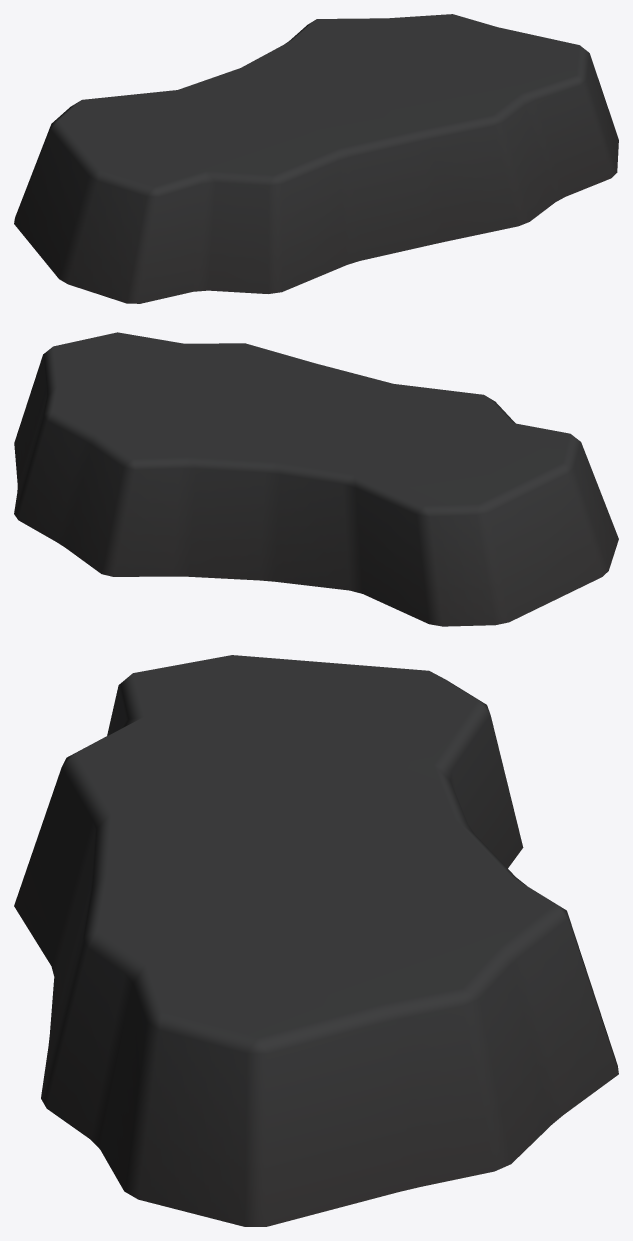
Rendered from PlatformSmall_002.glb.
3 views of the same model, one above another, from view 1: azimuth 30°, elevation 25°; view 2: azimuth 150°, elevation 25°; view 3: azimuth 270°, elevation 25° (orthographic). The views are drawn at different scales.
Visible parts, largest first — view 1: PlatformSmall_002; view 2: PlatformSmall_002; view 3: PlatformSmall_002.
Boxes of the visible parts, left/top/right/bottom form: PlatformSmall_002: left=14, top=14, right=618, bottom=303; PlatformSmall_002: left=14, top=332, right=618, bottom=626; PlatformSmall_002: left=14, top=655, right=618, bottom=1226.
Size of the model in its own units: 47.97 by 8.39 by 27.77.
1 material, 1 textured.
